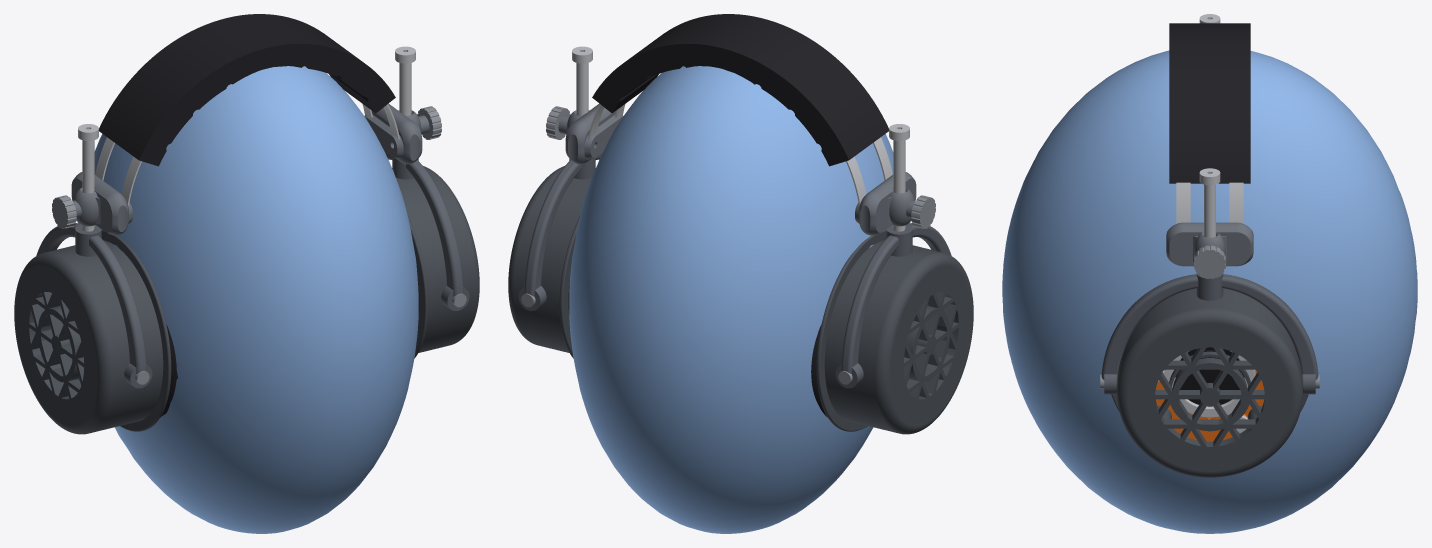
Rendered from daily-driver.glb.
The picture shows the model from 3 angles, left to right: view 1: azimuth 30°, elevation 25°; view 2: azimuth 150°, elevation 25°; view 3: azimuth 270°, elevation 25°; orthographic projection.
Visible parts, largest first — view 1: head_ref_l, cup_L, headband_pad, cup_R, yoke_L, yoke_R, slider_L, slider_R, bow_ref, yoke_rod_L, yoke_rod_R, headband_clamp_R (+1 smaller); view 2: head_ref_l, cup_L, headband_pad, cup_R, yoke_L, yoke_R, slider_L, slider_R, bow_ref, yoke_rod_L, yoke_rod_R, headband_clamp_R (+1 smaller); view 3: head_ref_l, cup_R, headband_pad, yoke_R, slider_R, bow_ref, yoke_rod_R, driver_R, thumbscrew_R, driver_clamp_R, baffle_R.
Boxes of the visible parts, x1,y1,x2,y2 form: head_ref_l: (77,66,418,533); cup_L: (14,229,171,434); headband_pad: (99,14,395,166); cup_R: (396,166,479,358); yoke_L: (36,223,152,388); yoke_R: (385,153,469,310); slider_L: (71,172,128,235); slider_R: (371,103,429,164); bow_ref: (95,104,399,205); yoke_rod_L: (78,124,98,231); yoke_rod_R: (395,46,415,115); headband_clamp_R: (364,114,403,159); head_ref_l: (569,66,910,533); cup_L: (816,229,973,434); headband_pad: (592,14,888,166); cup_R: (508,166,591,358); yoke_L: (835,223,951,388); yoke_R: (518,153,602,310); slider_L: (859,172,916,235); slider_R: (558,103,616,164); bow_ref: (588,104,892,205); yoke_rod_L: (889,124,909,231); yoke_rod_R: (572,46,592,115); headband_clamp_R: (584,114,623,159); head_ref_l: (1002,50,1417,533); cup_R: (1111,274,1308,477); headband_pad: (1169,23,1250,183); yoke_R: (1101,273,1318,394); slider_R: (1166,222,1253,266); bow_ref: (1176,182,1243,223); yoke_rod_R: (1199,168,1220,237); driver_R: (1175,347,1244,406); thumbscrew_R: (1194,245,1225,278); driver_clamp_R: (1158,351,1255,433); baffle_R: (1155,370,1264,441).
Size of the model in its own units: 216 by 264 by 204.
